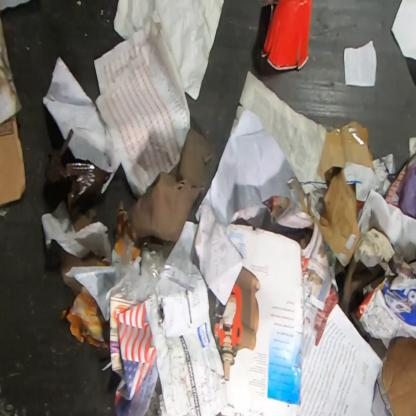cardboard: (350, 227, 415, 351), (317, 120, 374, 182), (381, 336, 415, 415), (0, 112, 26, 208)
rigid_plastic: (260, 0, 313, 71)
soft_plastic: (43, 128, 113, 216), (114, 233, 167, 303)
